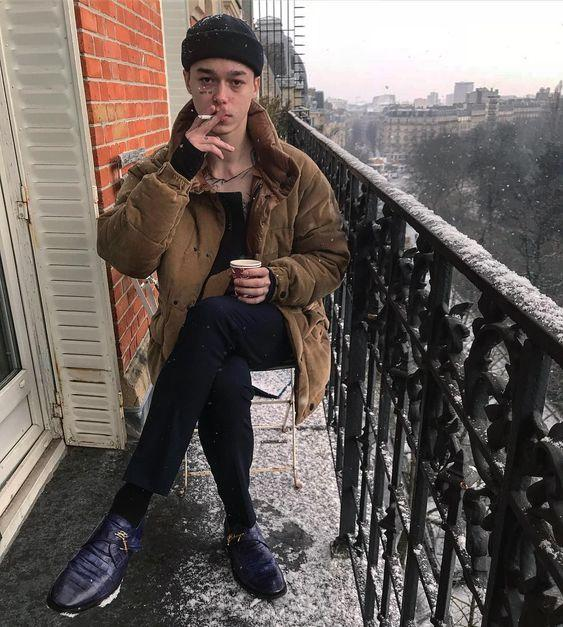cigarette: (198, 115, 214, 119)
